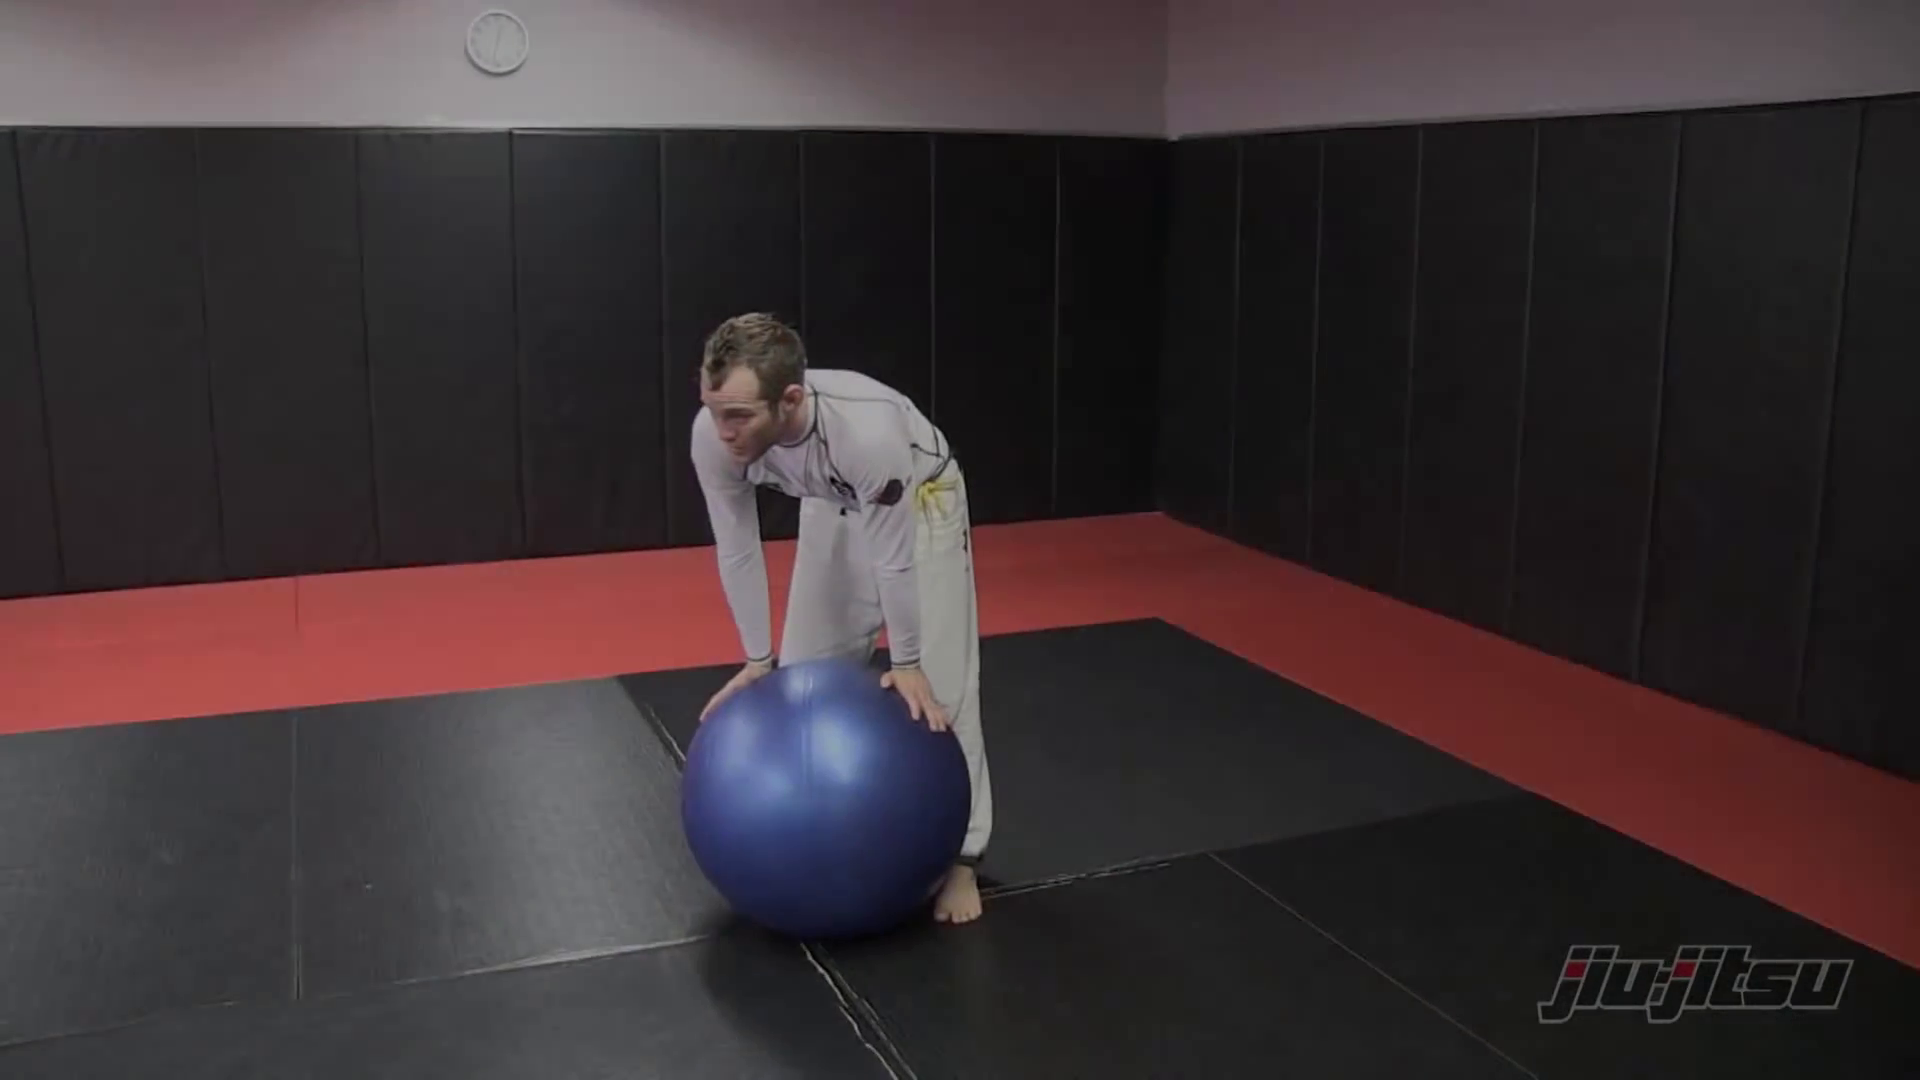yogaball: (670, 651, 986, 949)
